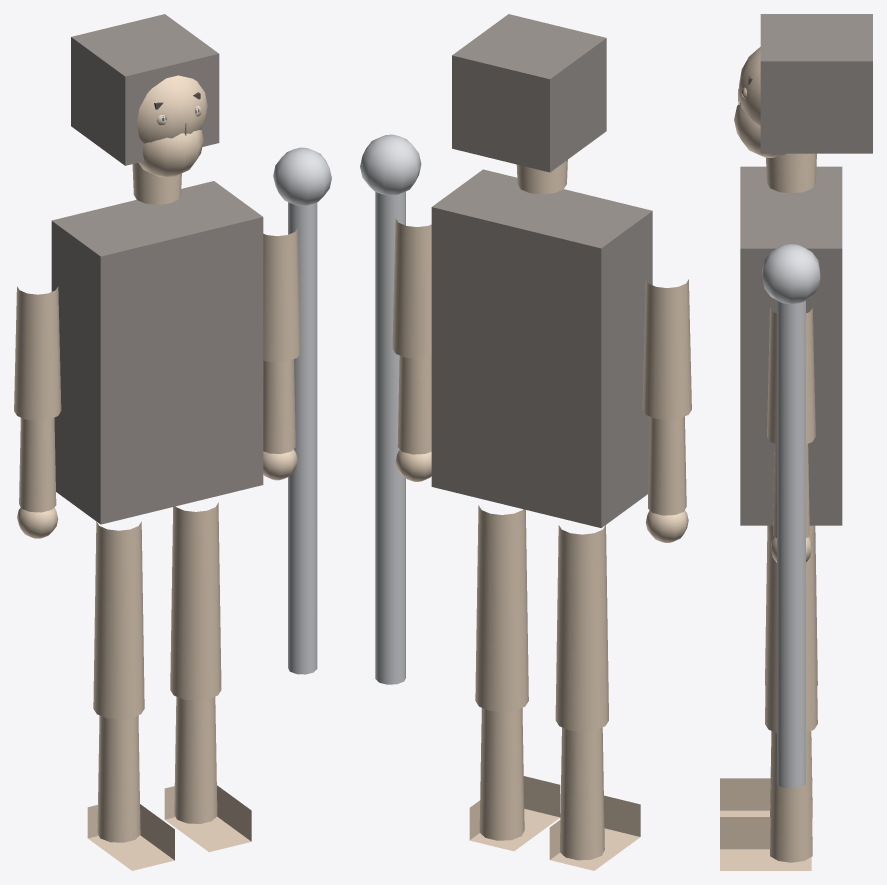
Rendered from body.glb.
The picture shows the model from 3 angles, left to right: view 1: azimuth 30°, elevation 25°; view 2: azimuth 150°, elevation 25°; view 3: azimuth 270°, elevation 25°; orthographic projection. The views are drawn at different scales.
Parts seen in each view (by area): view 1: Cloth, Skin, Metal; view 2: Cloth, Skin, Metal; view 3: Cloth, Skin, Metal.
Part boxes in pixels (bbox=[...]): Cloth: bbox=[51, 14, 263, 524]; Skin: bbox=[14, 75, 300, 870]; Metal: bbox=[273, 147, 331, 674]; Cloth: bbox=[431, 14, 652, 527]; Skin: bbox=[392, 160, 691, 870]; Metal: bbox=[360, 134, 421, 684]; Cloth: bbox=[740, 14, 872, 525]; Skin: bbox=[720, 47, 817, 870]; Metal: bbox=[762, 244, 820, 788].
Size of the model in its own units: 0.7286 by 1.74 by 0.3.
